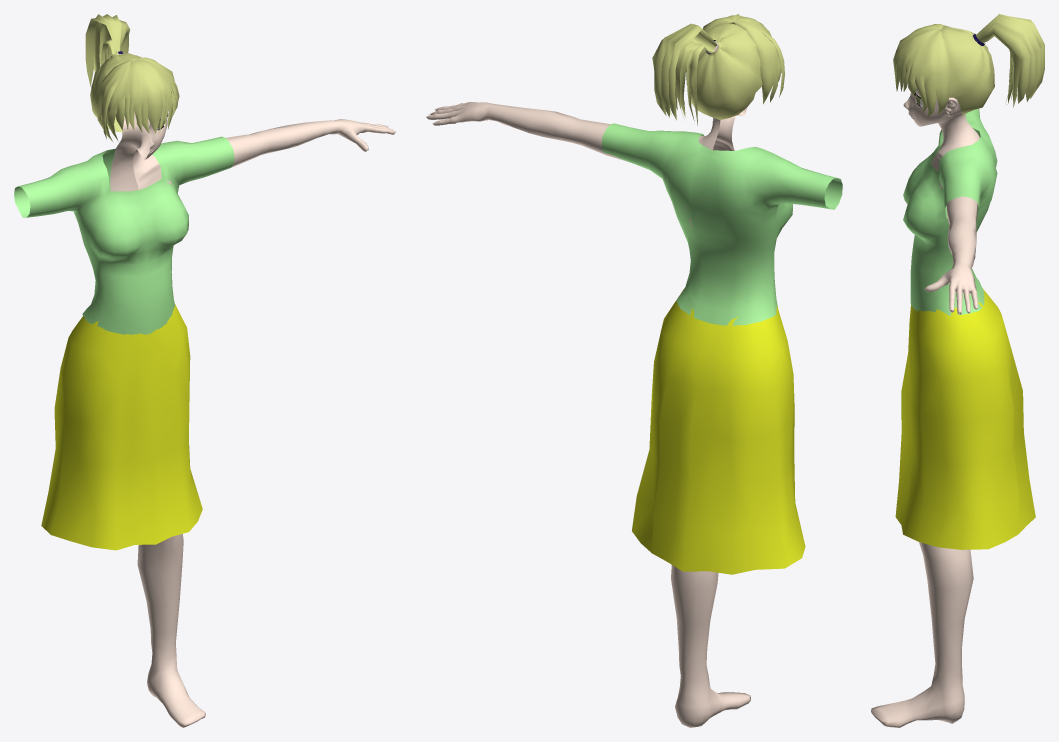
File: Random Anime Girl.gltf
The picture shows the model from 3 angles, left to right: view 1: azimuth 30°, elevation 25°; view 2: azimuth 150°, elevation 25°; view 3: azimuth 270°, elevation 25°; orthographic projection. The views are drawn at different scales.
Visible parts, largest first — view 1: GEO_Female_skirt, GEO_Female_shirt.003, GEO_Female_base, GEO_hair_bangs, GEO_hair_back.02, GEO_hair_back; view 2: GEO_Female_skirt, GEO_Female_shirt.003, GEO_Female_base, GEO_hair_back, GEO_hair_back.02, GEO_hair_bangs; view 3: GEO_Female_skirt, GEO_Female_base, GEO_Female_shirt.003, GEO_hair_bangs, GEO_hair_back.02, GEO_hair_back.
Boxes of the visible parts, box(x1,y1,x2,y2) form: GEO_Female_skirt: box(41, 304, 202, 550); GEO_Female_shirt.003: box(14, 136, 234, 334); GEO_Female_base: box(110, 104, 396, 727); GEO_hair_bangs: box(97, 57, 179, 141); GEO_hair_back.02: box(85, 14, 130, 86); GEO_hair_back: box(90, 52, 141, 132); GEO_Female_skirt: box(632, 288, 805, 574); GEO_Female_shirt.003: box(601, 123, 842, 325); GEO_Female_base: box(426, 42, 750, 727); GEO_hair_back: box(686, 23, 762, 119); GEO_hair_back.02: box(652, 23, 717, 125); GEO_hair_bangs: box(703, 14, 784, 104); GEO_Female_skirt: box(895, 288, 1035, 549); GEO_Female_base: box(871, 71, 986, 727); GEO_Female_shirt.003: box(903, 108, 997, 315); GEO_hair_bangs: box(893, 24, 950, 117); GEO_hair_back.02: box(976, 14, 1044, 107); GEO_hair_back: box(940, 25, 994, 114).
Size of the model in its own units: 1.14 by 1.95 by 0.4433.
